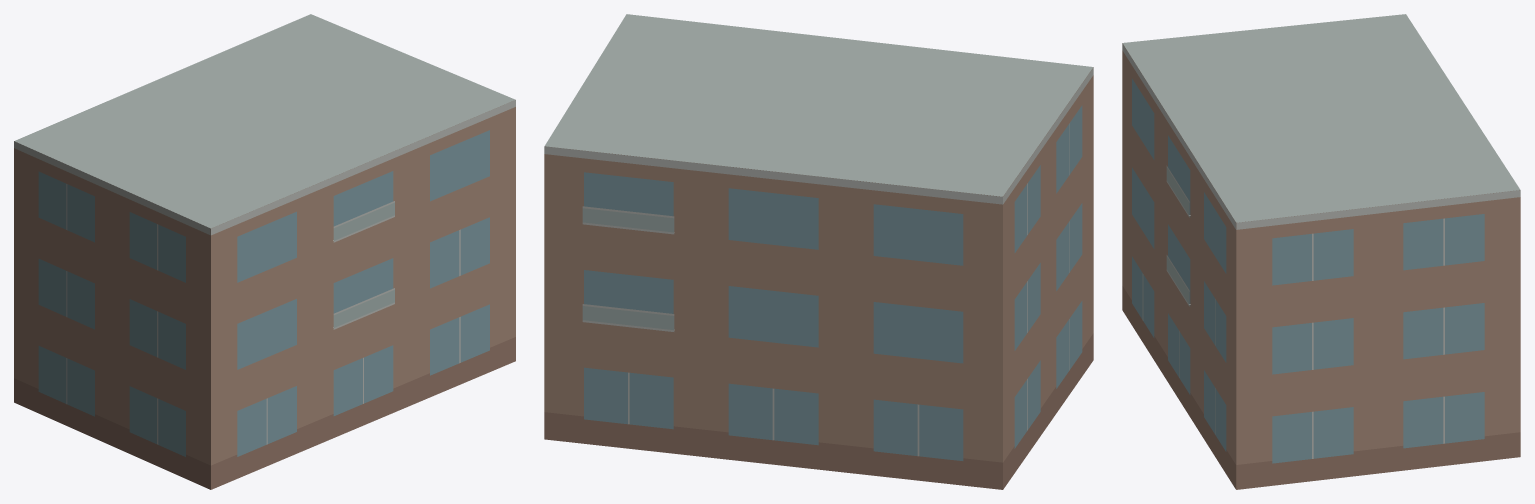
File: survey-upis-32586951.glb
The picture shows the model from 3 angles, left to right: view 1: azimuth 30°, elevation 25°; view 2: azimuth 150°, elevation 25°; view 3: azimuth 270°, elevation 25°; orthographic projection. The views are drawn at different scales.
Parts seen in each view (by area): view 1: survey-upis-32586951.tmp; view 2: survey-upis-32586951.tmp; view 3: survey-upis-32586951.tmp.
Part boxes in pixels (x1,y1,x2,y2): survey-upis-32586951.tmp: [14, 14, 515, 489]; survey-upis-32586951.tmp: [544, 14, 1093, 489]; survey-upis-32586951.tmp: [1122, 14, 1520, 489].
Size of the model in its own units: 15.35 by 9.15 by 12.37.
